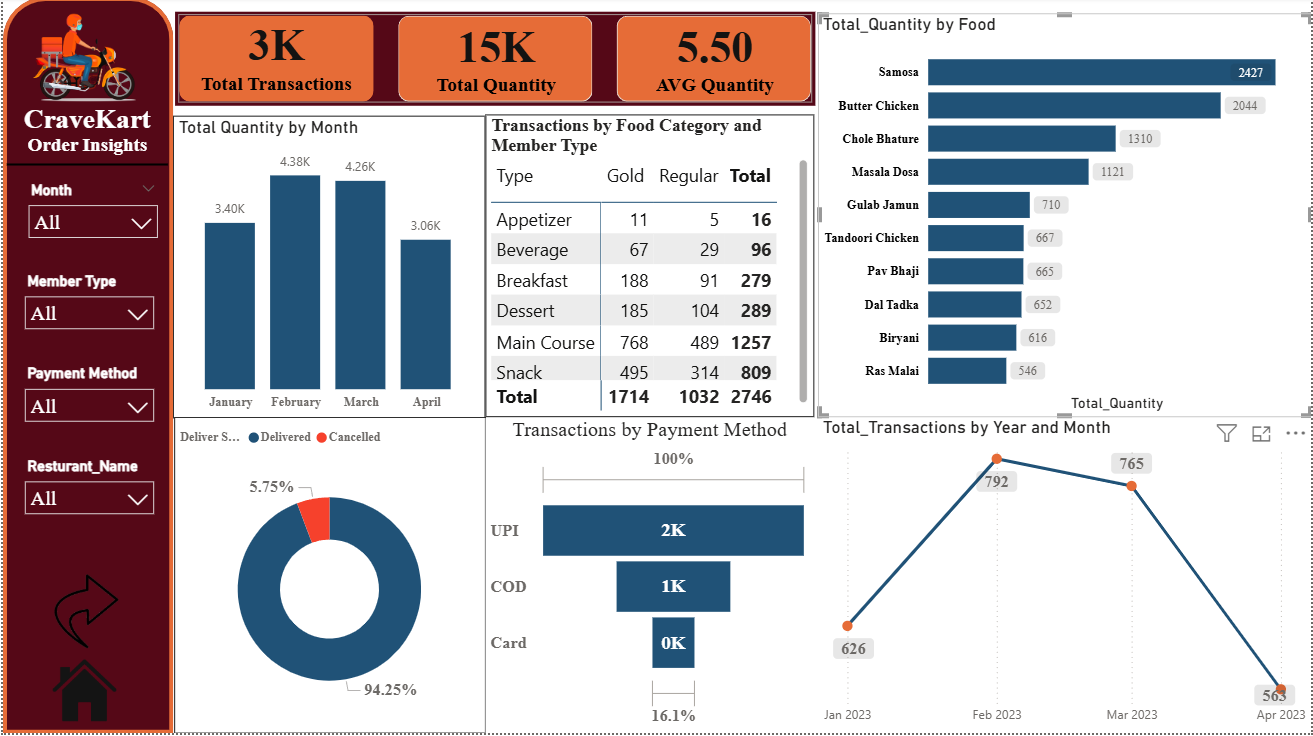

Layout of this report page (visuals, bound fields, positions):
{"tool":"powerbi","page":{"name":"Dashboard","canvas":[1280,720],"ordinal":0},"visuals":[{"type":"shape","box":[0,0,166.7,720.9],"z":0},{"type":"image","box":[0,0,157.7,116.2],"z":1000},{"type":"textbox","box":[3.7,99,157.7,64.8],"z":2000},{"type":"shape","box":[3.7,152.9,157.7,22],"z":3000},{"type":"cardVisual","fields":{"Data":["Sales Data.Total_Transactions","Sales Data.Total_Quantity","Sales Data.Average_Order"]},"box":[167.5,0,630,114],"z":4000},{"type":"columnChart","title":"Total Quantity by Month","fields":{"Category":["Sales Data.orderDate.Variation.Date Hierarchy.Month"],"Y":["Sales Data.Total_Quantity"]},"box":[166.3,116.2,305.7,295.9],"z":5000},{"type":"pivotTable","title":"Transactions by Food Category and Member Type","fields":{"Values":["Sales Data.Total_Transactions"],"Rows":["Food_Details.Type"],"Columns":["Customer Details.member_Type"]},"box":[472,114.9,321.6,295.9],"z":6000},{"type":"donutChart","fields":{"Category":["Sales Data.deliver_status"],"Y":["Sales Data.Total_Transactions"]},"box":[167.5,410.9,304.5,309.4],"z":7000},{"type":"funnel","title":"Transactions by Payment Method","fields":{"Y":["Sales Data.Total_Transactions"],"Category":["Sales Data.payment_method"]},"box":[472,412.1,321.6,308.2],"z":8000},{"type":"clusteredBarChart","fields":{"Y":["Sales Data.Total_Quantity"],"Category":["Food_Details.Food"]},"box":[797.3,15.9,483,395],"z":9000},{"type":"areaChart","fields":{"Y":["Sales Data.Total_Transactions"],"Category":["Sales Data.orderDate.Variation.Date Hierarchy.Year","Sales Data.orderDate.Variation.Date Hierarchy.Month"]},"box":[797.3,410.9,483,309.4],"z":10000},{"type":"slicer","fields":{"Values":["Customer Details.member_Type"]},"box":[11,264.1,146.7,90.5],"z":11001},{"type":"slicer","fields":{"Values":["Sales Data.orderDate.Variation.Date Hierarchy.Month"]},"box":[14.7,174.9,146.7,90.5],"z":11002},{"type":"slicer","fields":{"Values":["Sales Data.payment_method"]},"box":[11,354.6,146.7,90.5],"z":11003},{"type":"slicer","fields":{"Values":["Resturant_Details.Resturant_Name"]},"box":[11,445.1,146.7,90.5],"z":11004},{"type":"image","box":[0,564.9,162.6,72.1],"z":11005},{"type":"image","box":[6.1,637.1,146.7,83.2],"z":11006}]}

Visuals, with their boxes in screenshot pixels (x1, y1, x2, y2), scaled from the page's 1280x720 canvas onto the 1313x736 screenshot:
shape: (0,0,171,735)
image: (0,0,162,119)
textbox: (4,101,166,167)
shape: (4,156,166,179)
cardVisual - Sales Data.Total_Transactions x Sales Data.Total_Quantity: (172,0,818,117)
"Total Quantity by Month" columnChart: (171,119,484,421)
"Transactions by Food Category and Member Type" pivotTable: (484,117,814,420)
donutChart - Sales Data.deliver_status x Sales Data.Total_Transactions: (172,420,484,735)
"Transactions by Payment Method" funnel: (484,421,814,735)
clusteredBarChart - Sales Data.Total_Quantity x Food_Details.Food: (818,16,1312,420)
areaChart - Sales Data.Total_Transactions x Sales Data.orderDate.Variation.Date Hierarchy.Year: (818,420,1312,735)
slicer - Customer Details.member_Type: (11,270,162,362)
slicer - Sales Data.orderDate.Variation.Date Hierarchy.Month: (15,179,166,271)
slicer - Sales Data.payment_method: (11,362,162,455)
slicer - Resturant_Details.Resturant_Name: (11,455,162,548)
image: (0,577,167,651)
image: (6,651,157,735)
